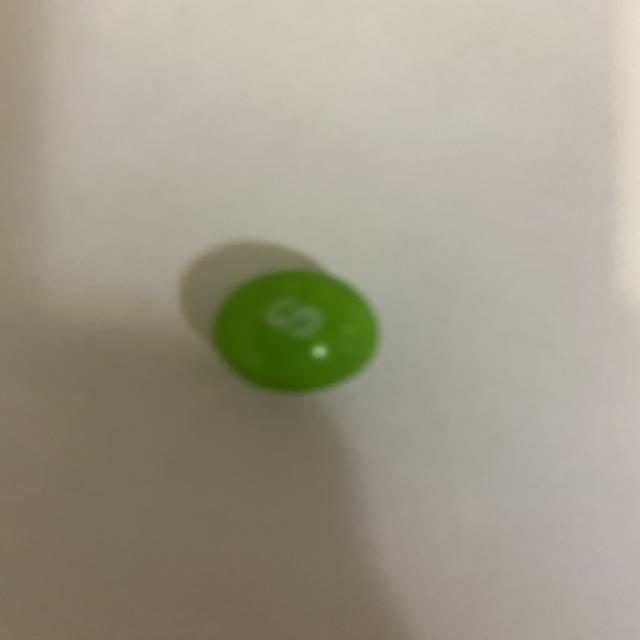smartie: (212, 270, 378, 392)
